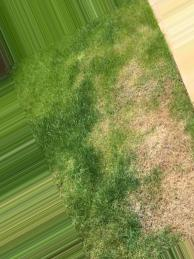patch: (121, 70, 180, 200), (144, 177, 194, 230)
